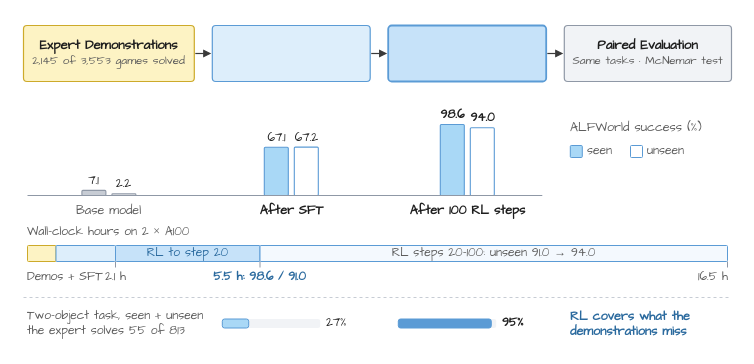
Some shapes in this 754 by 364 pixel diagram are drawn without their labels. Each missing label, with the centre of its shape:
Multi-Turn RL StepCredit-RL · 100 steps: point (467, 53)
SFT Loss on tool calls · 1 epoch: point (290, 53)
